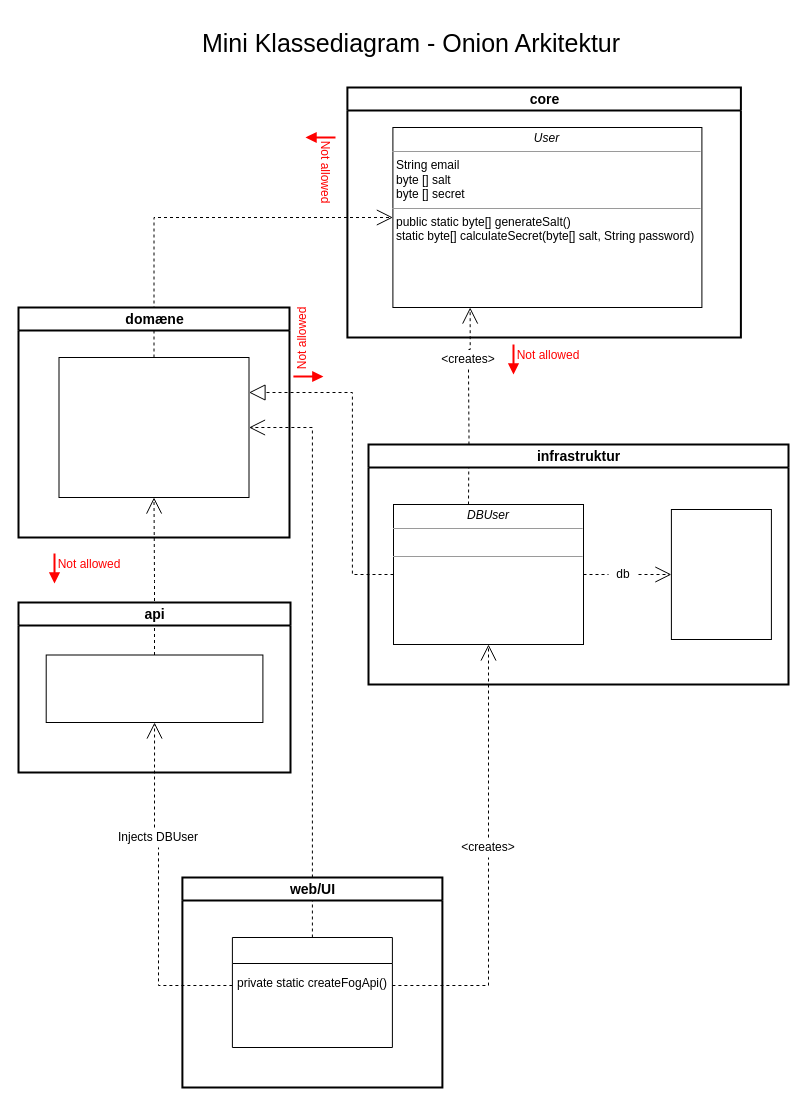
The diagram is 806 pixels wide and 1105 high, and some of its shapes have lost their labels. Here are the shapes that lost their labels. From the top down, the box of each, then its label:
(58, 356, 249, 498): <<Interface>> UserFactory User createUser(User user)
(670, 508, 771, 640): Database getConnection()
(45, 654, 263, 722): Api User createUser(User user )
(231, 936, 392, 1048): BaseServlet
